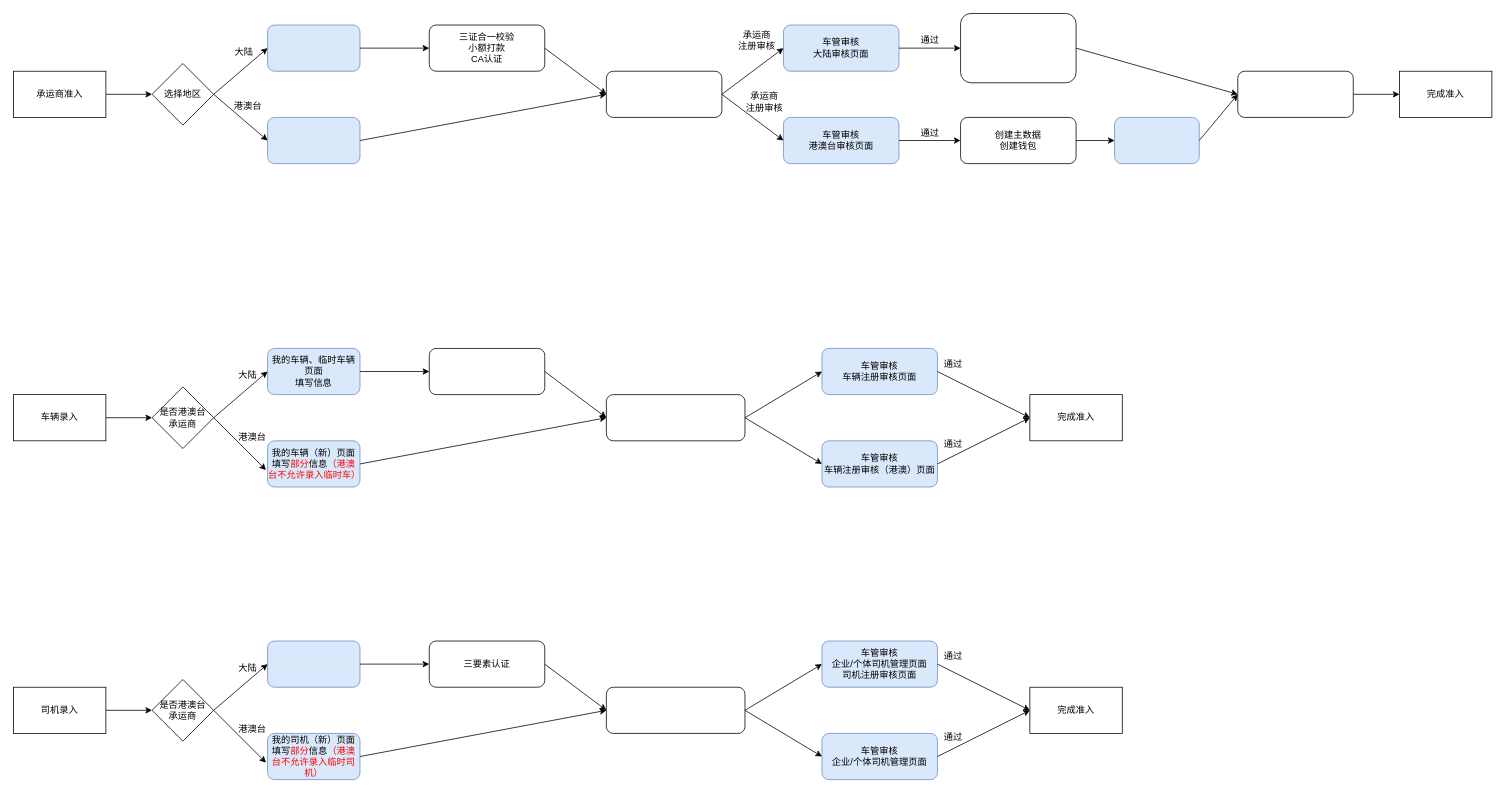
Some shapes in this 1505 by 793 pixel diagram are drawn without their labels. Each missing label, with the centre of its shape:
"中交、同信接口认证" belongs at pixel 487 371.
"创建主数据 创建MDMP数据 创建钱包 初始化技术得分 初始化承运商等级" belongs at pixel 1018 48.
"大陆准入页面 填写信息" belongs at pixel 313 47.
"我的司机、临时司机页面 填写信息" belongs at pixel 313 663.
"承运商表tm_supplier （以district字段区分）" belongs at pixel 664 93.
"接收SAP编码" belongs at pixel 1295 93.
"港澳台准入页面 填写 部分 信息" belongs at pixel 313 140.
"车管人工申请 SAP编码" belongs at pixel 1156 140.
"车辆表 临时：tm_temporary_driver 固定：tm_my_driver(以district字段区分)" belongs at pixel 675 709.
"车辆表 临时：tm_temporary_vehicle 固定：tm_my_vehicle(以district字段区分)" belongs at pixel 675 417.
